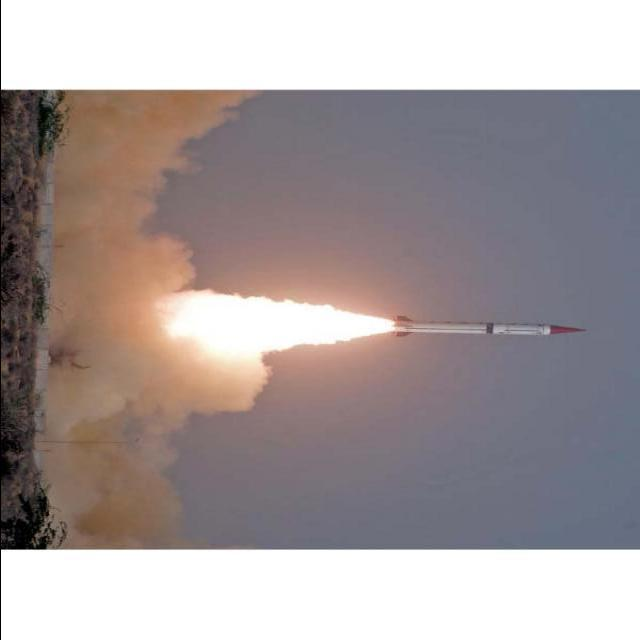Missile: (371, 310, 593, 343)
